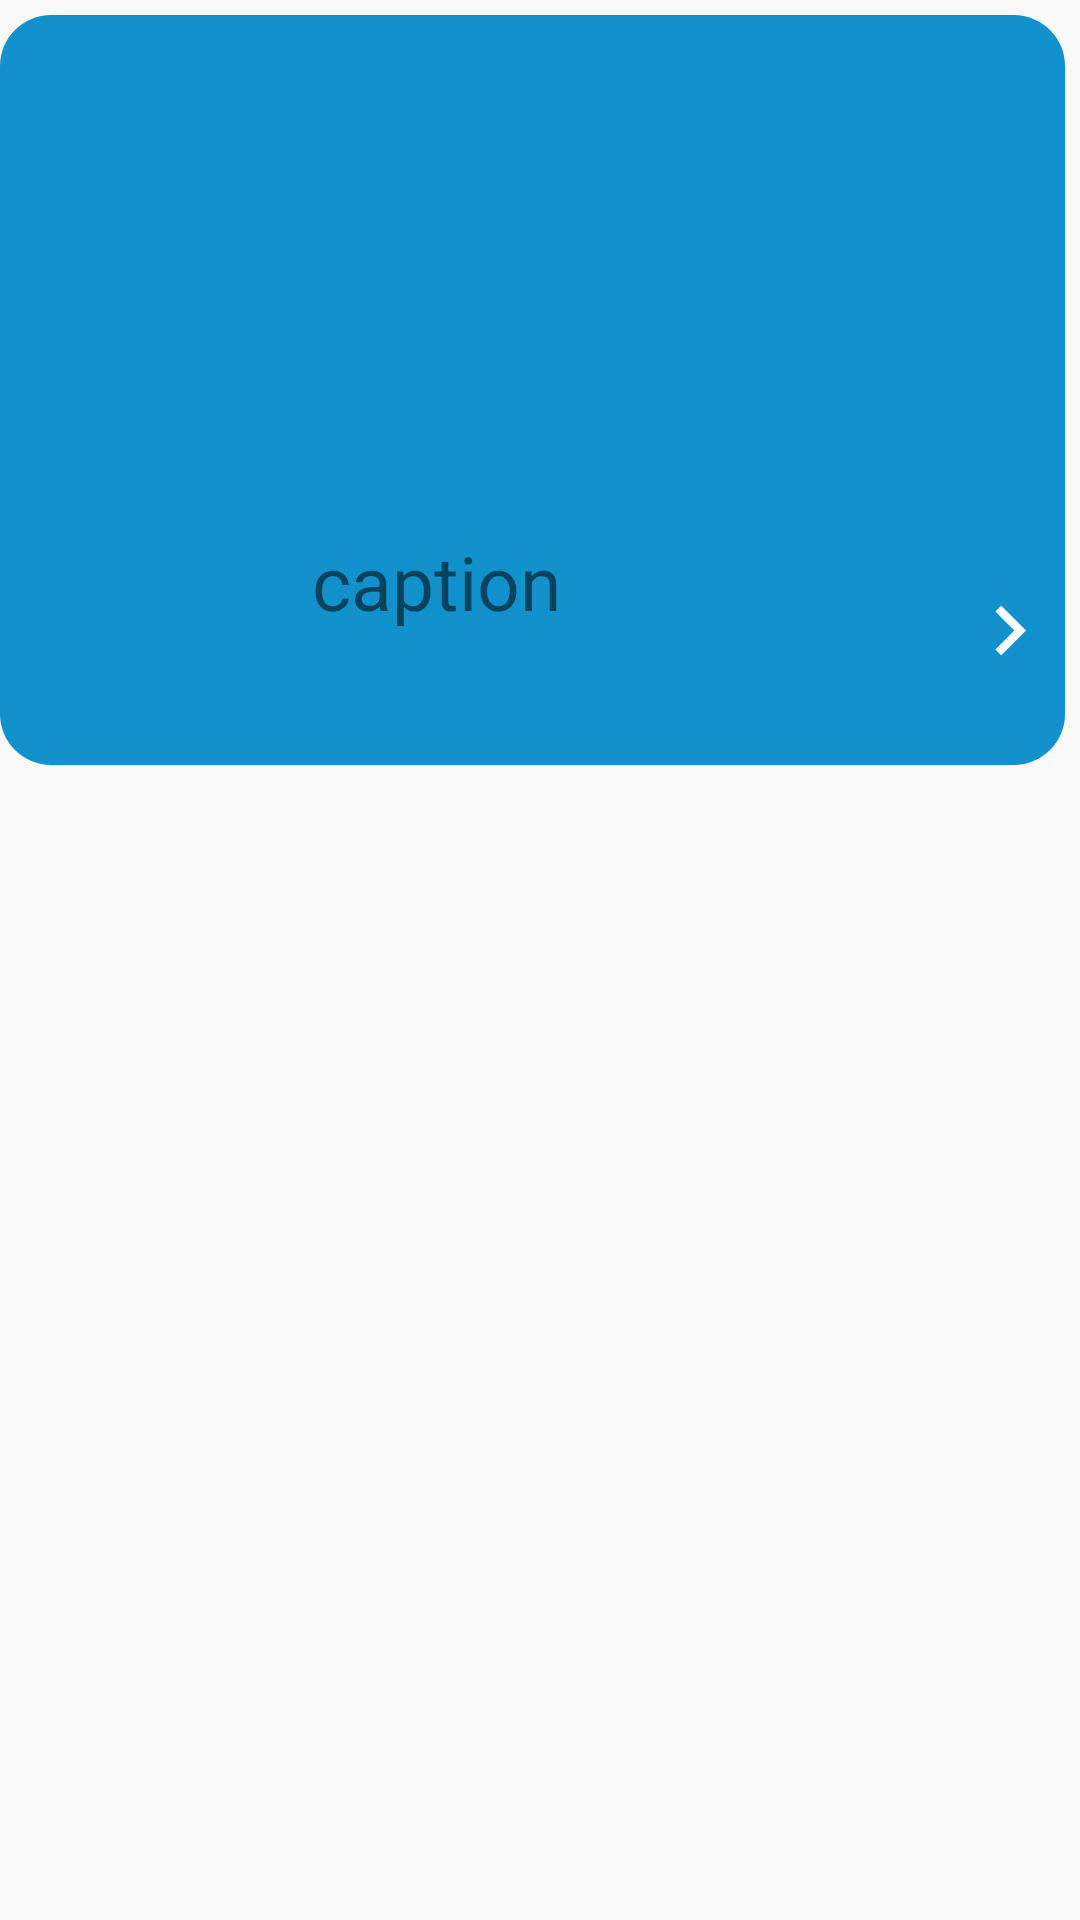

Where to tap for icons on this 1080px×1920px app screen, as [x,y]:
keyboard arrow right: [1010,630]
